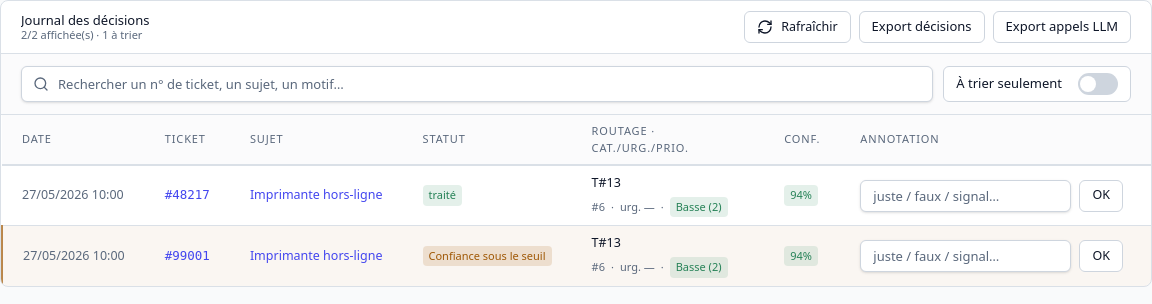
it: Journal des décisions › bascule « À trier seulement » et compte les non acceptées
Expected: the link "#48217" is shown, [165,187,210,202]
Expected: the text "2/2 affichée(s) · 1 à trier" is shown, [21,28,150,42]
Step 1. Click the switch named "À trier seulement" → (1098, 84), box [1078,73,1118,95]
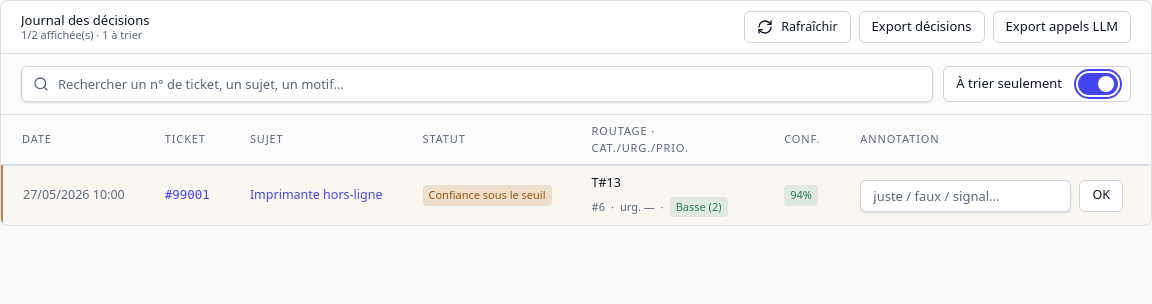
Expected: the link "#99001" is shown, [165,187,210,202]
Result: the link "#48217" is gone
Result: the text "1/2 affichée(s) · 1 à trier" is shown at [21,28,150,42]
